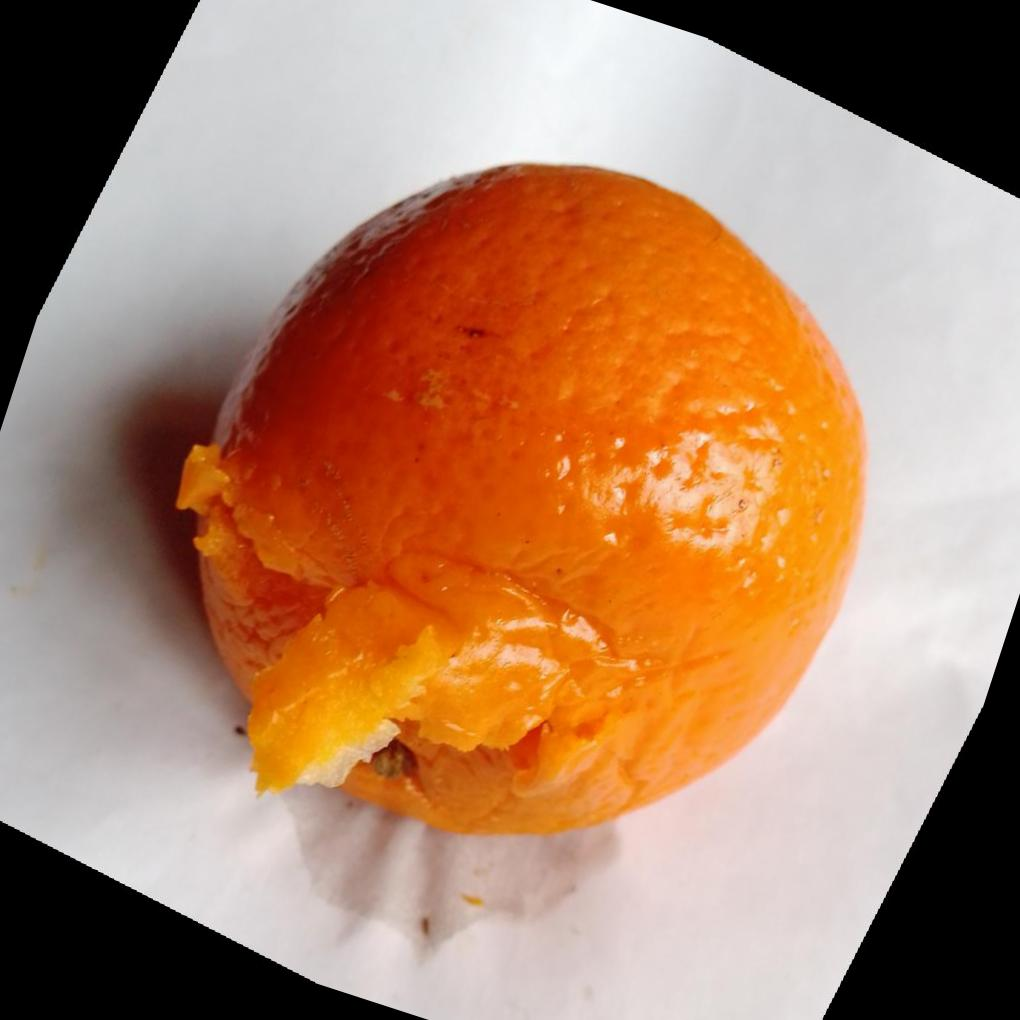FreshOrange: (172, 162, 866, 842)
